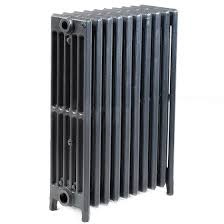Radiator: (46, 2, 178, 221)
